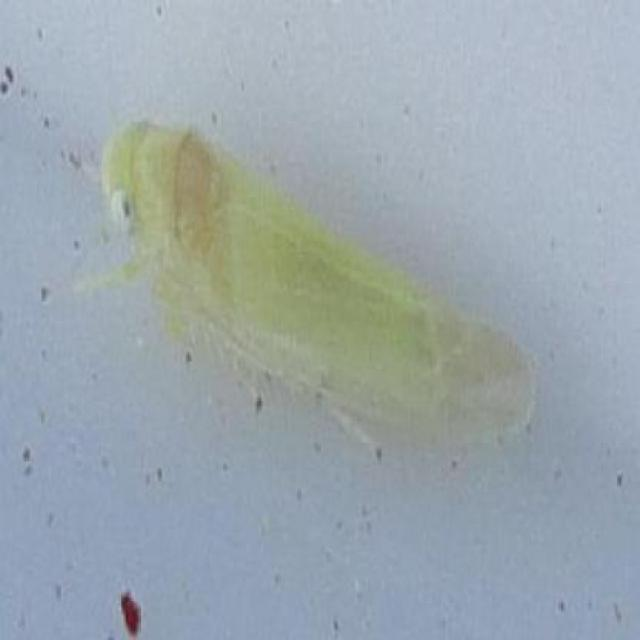green-leafhopper: (73, 115, 540, 445)
